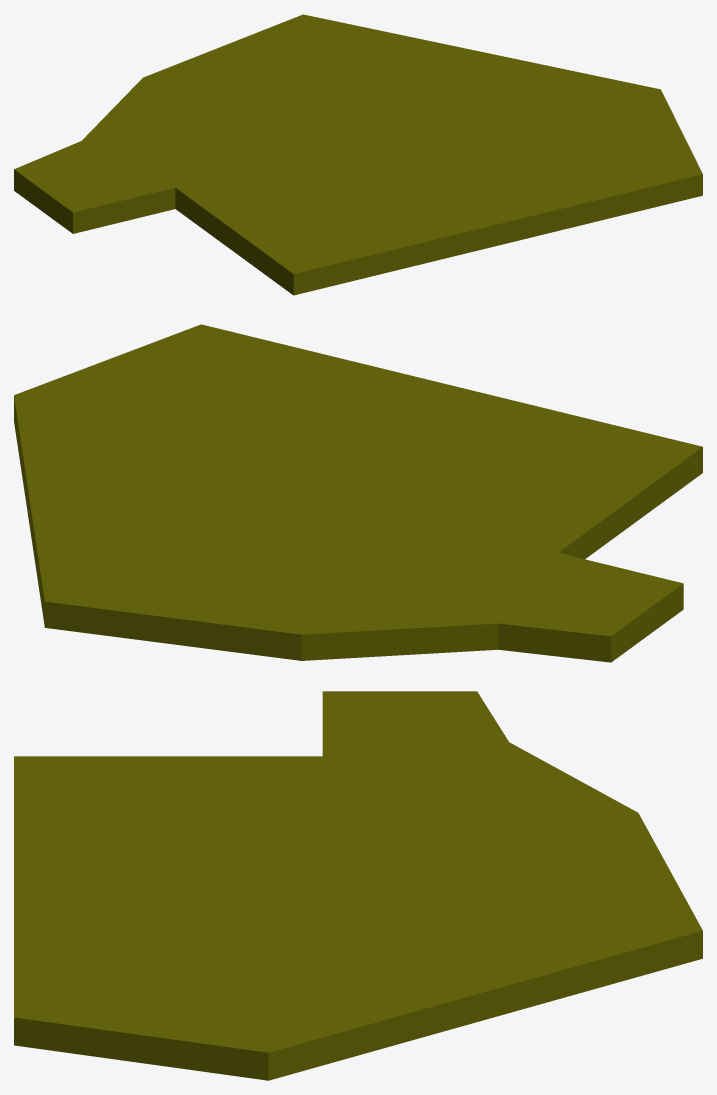
File: x_0_boloto_11_1_rmstrd.fbx
3 views of the same model, one above another, from view 1: azimuth 30°, elevation 25°; view 2: azimuth 150°, elevation 25°; view 3: azimuth 270°, elevation 25° (orthographic). The views are drawn at different scales.
Visible parts, largest first — view 1: x_0_boloto_11_1_rmstrd1; view 2: x_0_boloto_11_1_rmstrd1; view 3: x_0_boloto_11_1_rmstrd1.
Part boxes in pixels (box(x1,y1,x2,y2)): x_0_boloto_11_1_rmstrd1: box(14, 14, 702, 295); x_0_boloto_11_1_rmstrd1: box(14, 324, 702, 662); x_0_boloto_11_1_rmstrd1: box(14, 691, 702, 1080).
Bounding box in the file's own units: 5.54 × 0.2 × 4.46.
